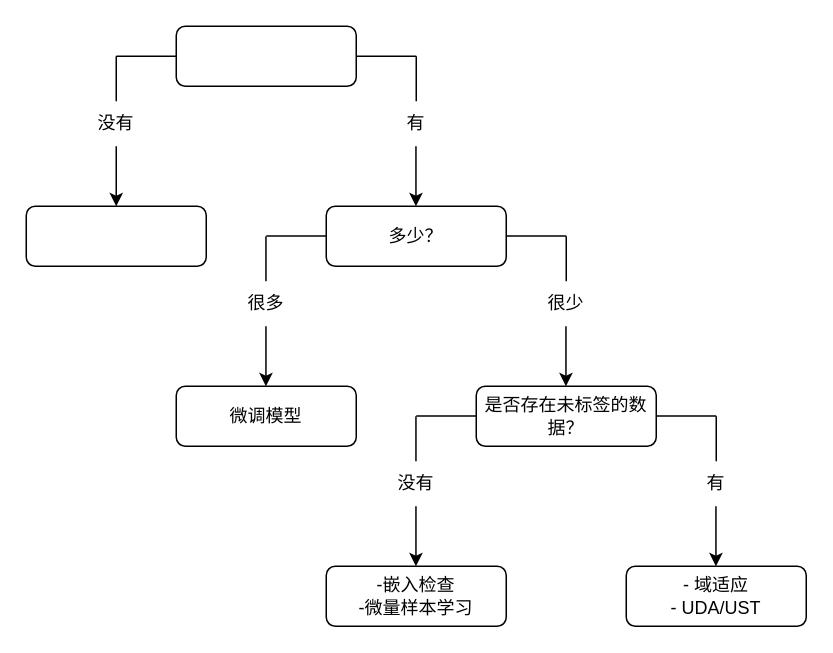
Some shapes in this 833 by 653 pixel diagram are drawn without their labels. Here are the shapes that lost their labels. From the top down, the centre of each, then its label:
point 265,55: 是否有已标签的数据
point 115,235: 零样本学习
